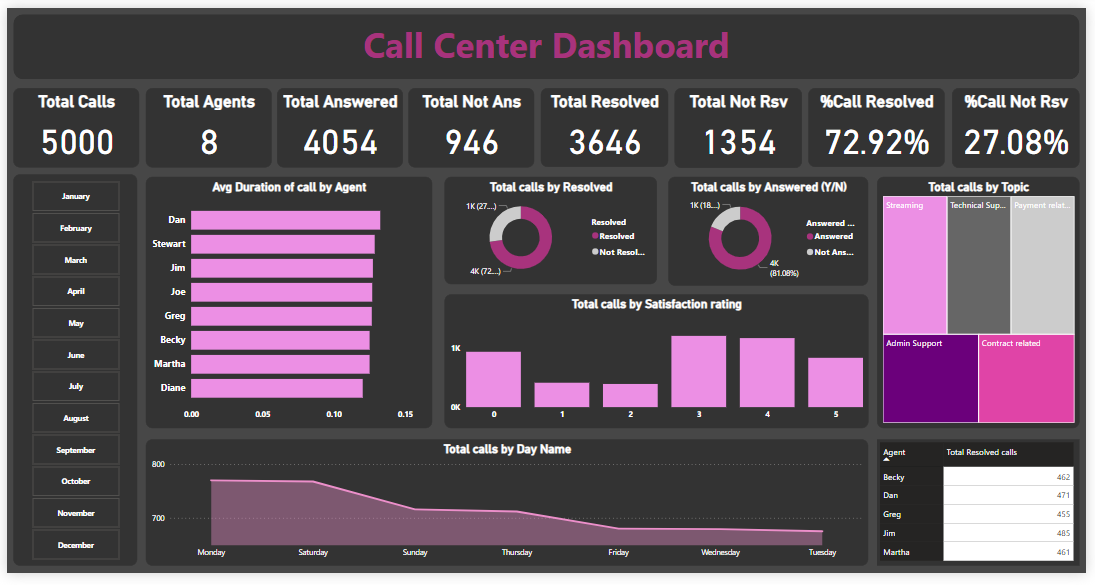

What the dashboard file says about the page in this screenshot:
{"tool":"powerbi","page":{"name":"Page 1","canvas":[1726,905],"ordinal":0},"visuals":[{"type":"card","title":"Total Calls","fields":{"Values":["Measure.Total calls"]},"box":[10,127.7,201.4,127.1],"z":0},{"type":"card","title":"Total Answered","fields":{"Values":["Measure.Measure"]},"box":[432.9,127.7,201.4,127.1],"z":1000},{"type":"card","title":"Total Resolved","fields":{"Values":["Measure.Measure2"]},"box":[854,128,204,126],"z":2000},{"type":"card","title":"%Call Resolved","fields":{"Values":["Measure.% Calls Resolved"]},"box":[1282,128,218,126],"z":3000},{"type":"card","title":"%Call Not Rsv","fields":{"Values":["Measure.% Calls Not Resolved"]},"box":[1512,128,204,128],"z":4000},{"type":"card","title":"Total Agents","fields":{"Values":["Measure.Total Agent"]},"box":[222.9,127.7,201.4,127.1],"z":5000},{"type":"card","title":"Total Not Ans","fields":{"Values":["Measure.Total Not Answered calls"]},"box":[642.9,127.7,201.4,127.1],"z":6000},{"type":"card","title":"Total Not Rsv","fields":{"Values":["Measure.Total Not Resolved calls"]},"box":[1068,128,204,128],"z":7000},{"type":"slicer","fields":{"Values":["Call center.Date.Variation.Date Hierarchy.Month"]},"box":[10,266,198,626],"z":8000},{"type":"donutChart","fields":{"Y":["Measure.Total calls"],"Category":["Call center.Resolved"]},"box":[700,270,340,172],"z":9000},{"type":"treemap","fields":{"Group":["Call center.Topic"],"Values":["Measure.Total calls"]},"box":[1392,270,324,402],"z":10000},{"type":"pivotTable","fields":{"Rows":["Call center.Agent"],"Values":["Measure.Total Resolved calls"]},"box":[1392,690,324,202],"z":11000},{"type":"clusteredColumnChart","fields":{"Y":["Measure.Total calls"],"Category":["Call center.Satisfaction rating"]},"box":[700,458,678,214],"z":12000},{"type":"clusteredBarChart","title":"Avg Duration of call by Agent","fields":{"Category":["Call center.Agent"],"Y":["Call center.Duration of call"]},"box":[222,270,458,402],"z":13000},{"type":"areaChart","fields":{"Category":["Call center.Day Name"],"Y":["Measure.Total calls"]},"box":[222,690,1156,202],"z":14000},{"type":"donutChart","fields":{"Y":["Measure.Total calls"],"Category":["Call center.Answered (Y/N)"]},"box":[1058,270,320,174],"z":15000},{"type":"shape","box":[10,10,1706,104],"z":16000},{"type":"textbox","box":[10,14,1706,104],"z":17000}]}

Visuals, with their boxes in screenshot pixels (x1, y1, x2, y2), scaled from the page's 1726x905 canvas onto the 1095x585 screenshot:
"Total Calls" card: Rect(6, 83, 134, 165)
"Total Answered" card: Rect(275, 83, 402, 165)
"Total Resolved" card: Rect(542, 83, 671, 164)
"%Call Resolved" card: Rect(813, 83, 952, 164)
"%Call Not Rsv" card: Rect(959, 83, 1089, 165)
"Total Agents" card: Rect(141, 83, 269, 165)
"Total Not Ans" card: Rect(408, 83, 536, 165)
"Total Not Rsv" card: Rect(678, 83, 807, 165)
slicer - Call center.Date.Variation.Date Hierarchy.Month: Rect(6, 172, 132, 577)
donutChart - Measure.Total calls x Call center.Resolved: Rect(444, 175, 660, 286)
treemap - Call center.Topic x Measure.Total calls: Rect(883, 175, 1089, 434)
pivotTable - Call center.Agent x Measure.Total Resolved calls: Rect(883, 446, 1089, 577)
clusteredColumnChart - Measure.Total calls x Call center.Satisfaction rating: Rect(444, 296, 874, 434)
"Avg Duration of call by Agent" clusteredBarChart: Rect(141, 175, 431, 434)
areaChart - Call center.Day Name x Measure.Total calls: Rect(141, 446, 874, 577)
donutChart - Measure.Total calls x Call center.Answered (Y/N): Rect(671, 175, 874, 287)
shape: Rect(6, 6, 1089, 74)
textbox: Rect(6, 9, 1089, 76)
